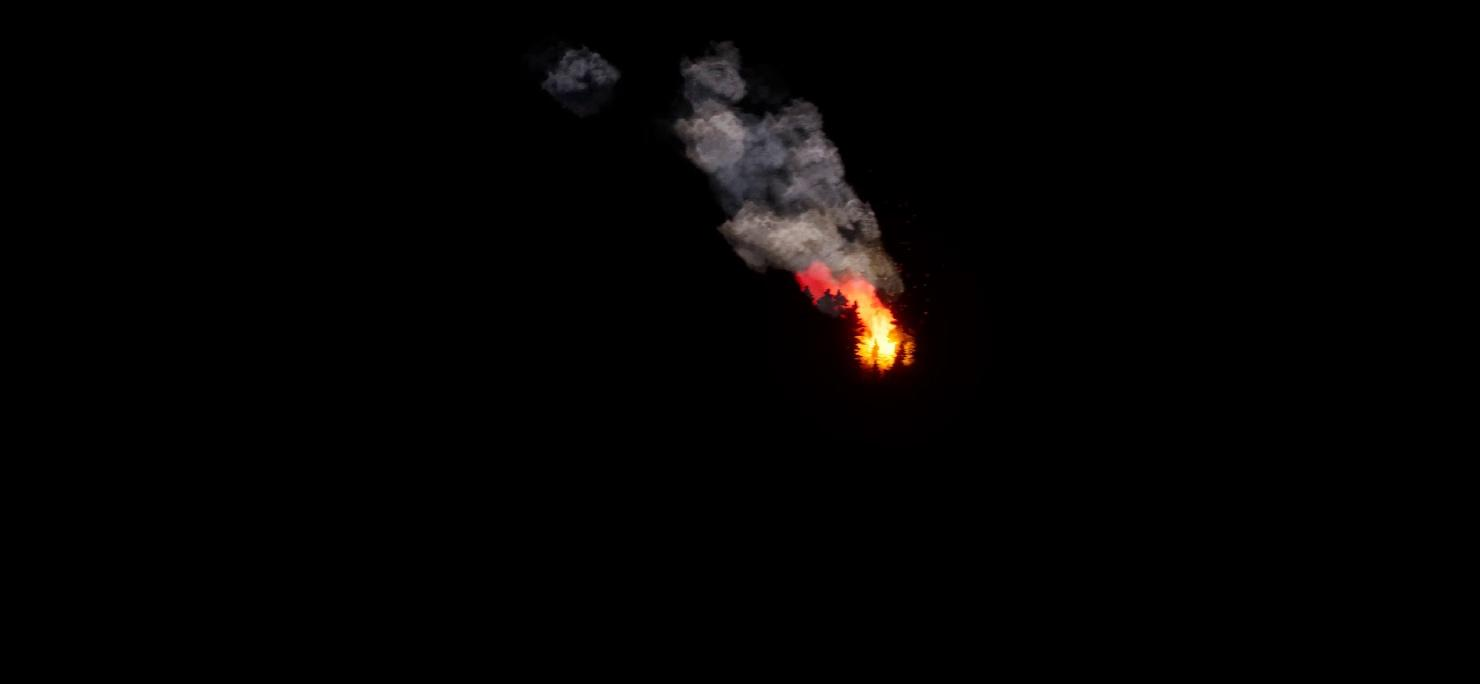fire: (803, 270, 921, 373)
smoke: (675, 32, 895, 286)
